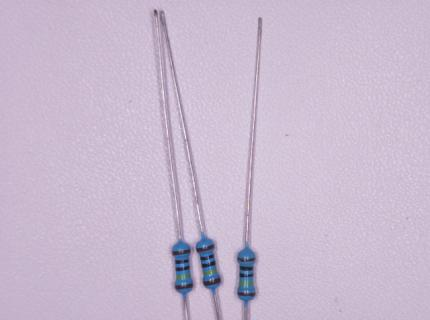Black band: (175, 264, 191, 272), (202, 261, 216, 269), (200, 254, 215, 261), (175, 259, 189, 265), (239, 266, 254, 271), (240, 273, 253, 278)
Brown band: (203, 277, 222, 288), (196, 244, 215, 252), (172, 249, 191, 256), (174, 283, 193, 290), (238, 291, 255, 297), (238, 257, 256, 262)
Yellow band: (203, 268, 218, 276), (176, 274, 192, 280), (239, 281, 254, 286)
